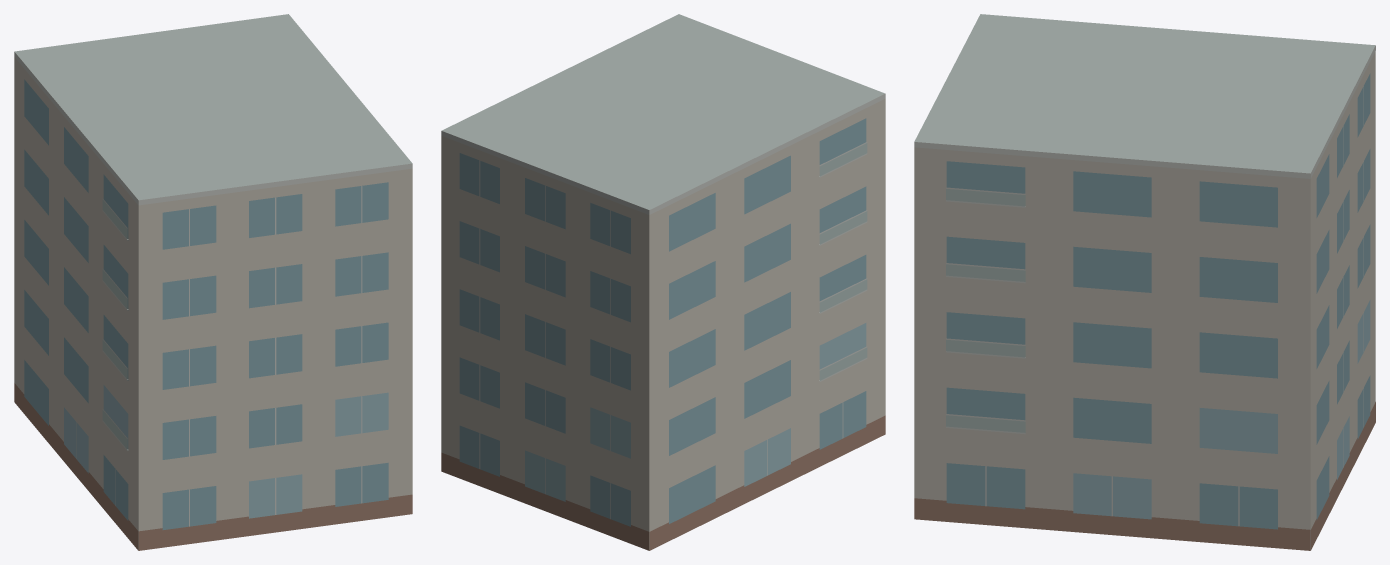
File: survey-upis-32564432.glb
3 renders of one model, left to right at view 1: azimuth 30°, elevation 25°; view 2: azimuth 150°, elevation 25°; view 3: azimuth 270°, elevation 25°, orthographic. The views are drawn at different scales.
Visible parts, largest first — view 1: survey-upis-32564432.tmp; view 2: survey-upis-32564432.tmp; view 3: survey-upis-32564432.tmp.
Part boxes in pixels (x1,y1,x2,y2): survey-upis-32564432.tmp: (14, 14, 412, 550); survey-upis-32564432.tmp: (441, 14, 885, 550); survey-upis-32564432.tmp: (914, 14, 1375, 550).
Size of the model in its own units: 15.24 by 16.8 by 18.63.
